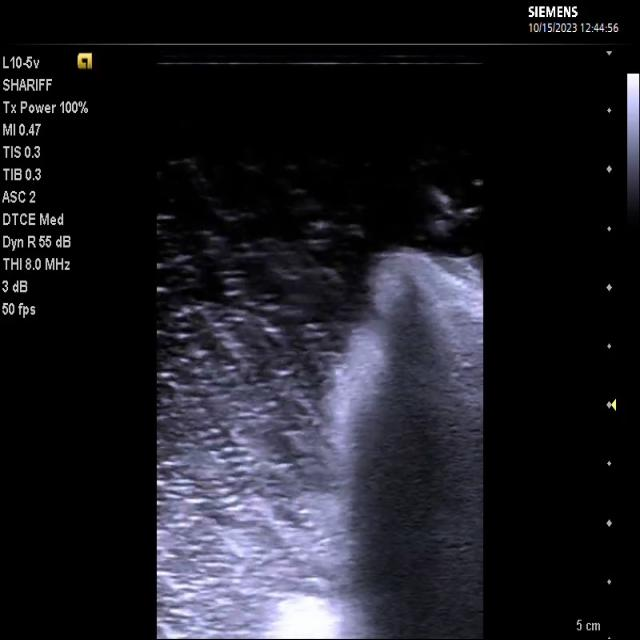tissue: (272, 250, 483, 640)
